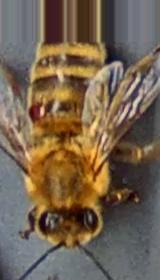varroa_mite: (15, 90, 60, 126)
